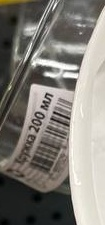1d: (29, 95, 73, 176)
